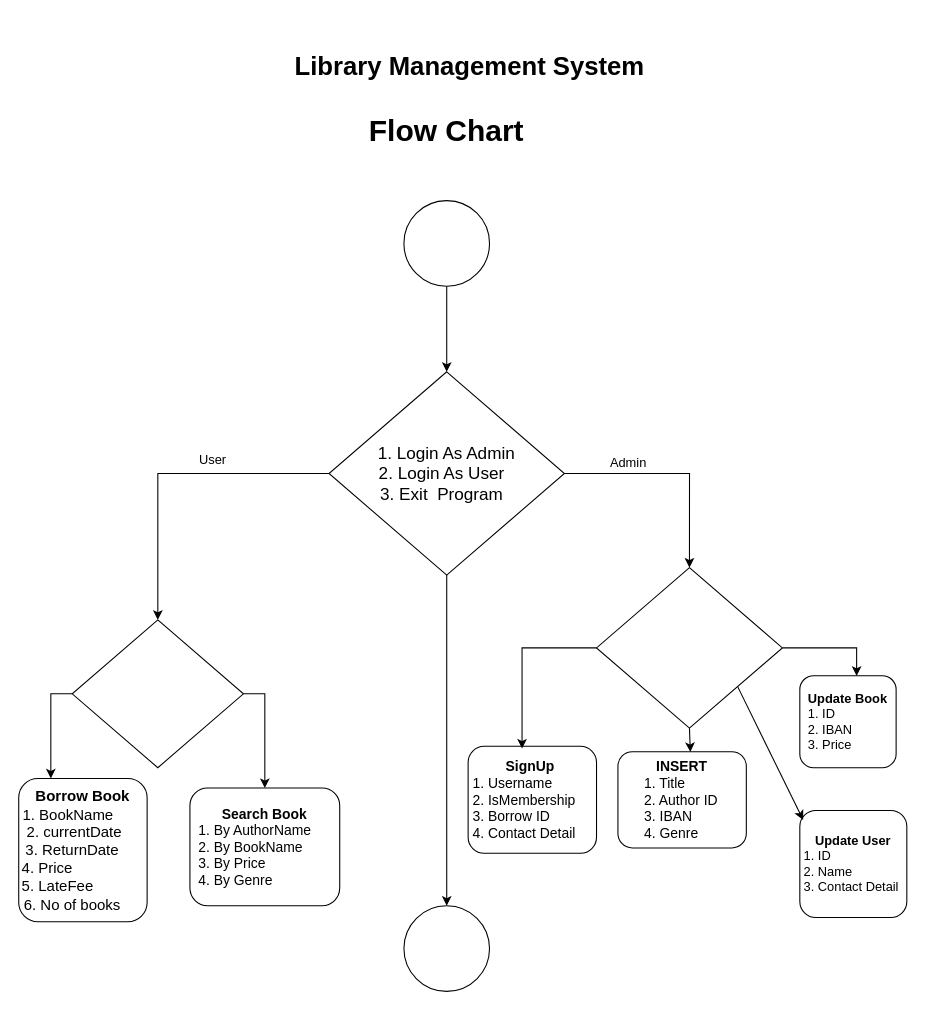
This 926x1010 diagram has some shape labels left out. The shapes that lost their labels are listed below. From the top down, each one's centre as x and y in pixels, then its label:
pixel 446 243: Start
pixel 688 647: 1. SignUp User 2. Insert Book 3. Update User 4. Update Book 5. Go Back
pixel 157 693: 1. Borrow Books 2. Search Book 3. Go Back
pixel 446 948: Stop
